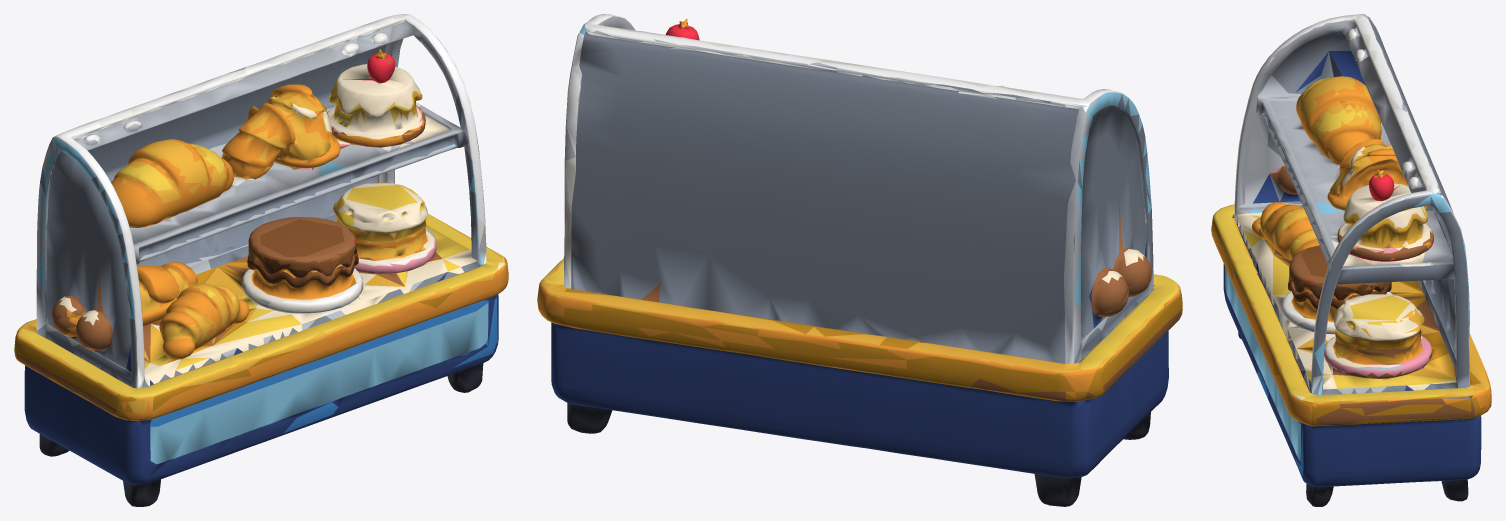
The model's file is SM_bakery_case.glb.
3 views of the same model, side by side, from view 1: azimuth 30°, elevation 25°; view 2: azimuth 150°, elevation 25°; view 3: azimuth 270°, elevation 25° (orthographic). The views are drawn at different scales.
Visible parts, largest first — view 1: SM_bakery_case; view 2: SM_bakery_case; view 3: SM_bakery_case.
Boxes of the visible parts, x1=… form: SM_bakery_case: x1=14, y1=14, x2=508, y2=506; SM_bakery_case: x1=537, y1=14, x2=1182, y2=506; SM_bakery_case: x1=1211, y1=14, x2=1491, y2=506.
Bounding box in the file's own units: 1.71 × 1.2 × 0.974.
1 material, 1 textured.
